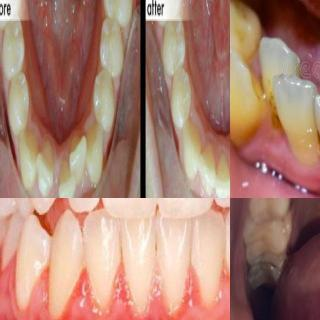maligned: (258, 39, 317, 151), (269, 68, 320, 171), (230, 51, 258, 158), (62, 134, 94, 188), (34, 157, 56, 197), (53, 175, 78, 198)
plaque: (0, 272, 230, 320)
stains: (252, 81, 294, 140), (312, 114, 320, 165)
